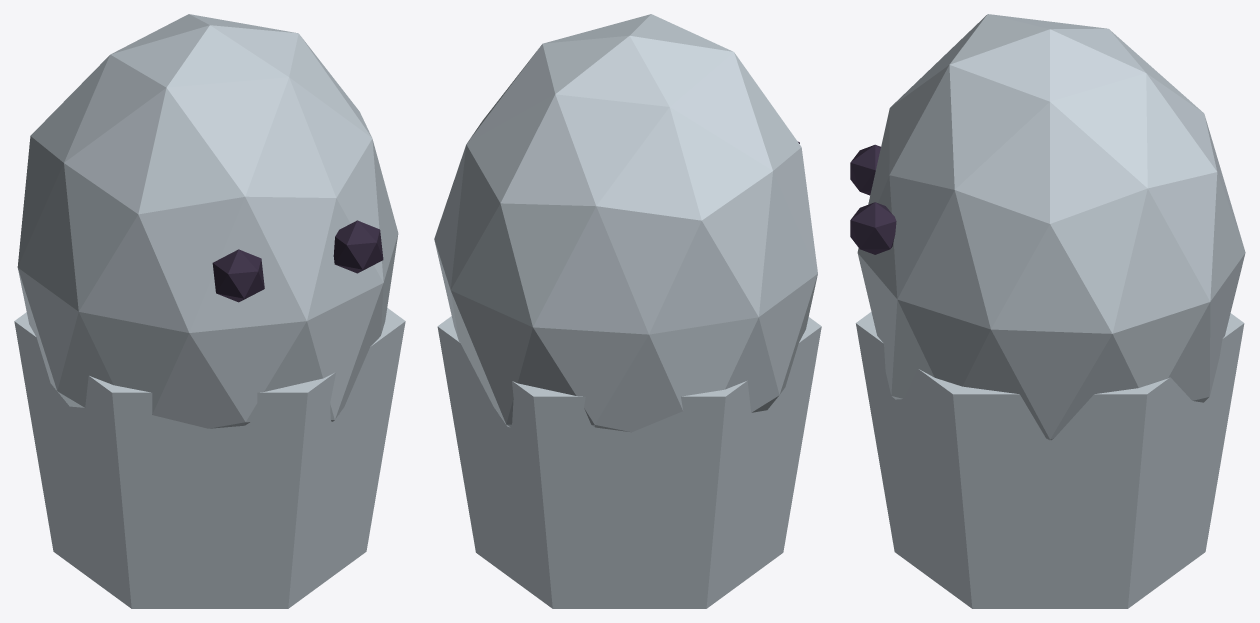
File: ghost.glb
3 views of the same model, side by side, from view 1: azimuth 30°, elevation 25°; view 2: azimuth 150°, elevation 25°; view 3: azimuth 270°, elevation 25° (orthographic).
Visible parts, largest first — view 1: graveyard-ghost; view 2: graveyard-ghost; view 3: graveyard-ghost.
Part boxes in pixels (x1,y1,x2,y2): graveyard-ghost: (14, 14, 405, 608); graveyard-ghost: (434, 14, 821, 608); graveyard-ghost: (850, 14, 1245, 608).
Bounding box in the file's own units: 0.3889 × 0.5937 × 0.4067.
